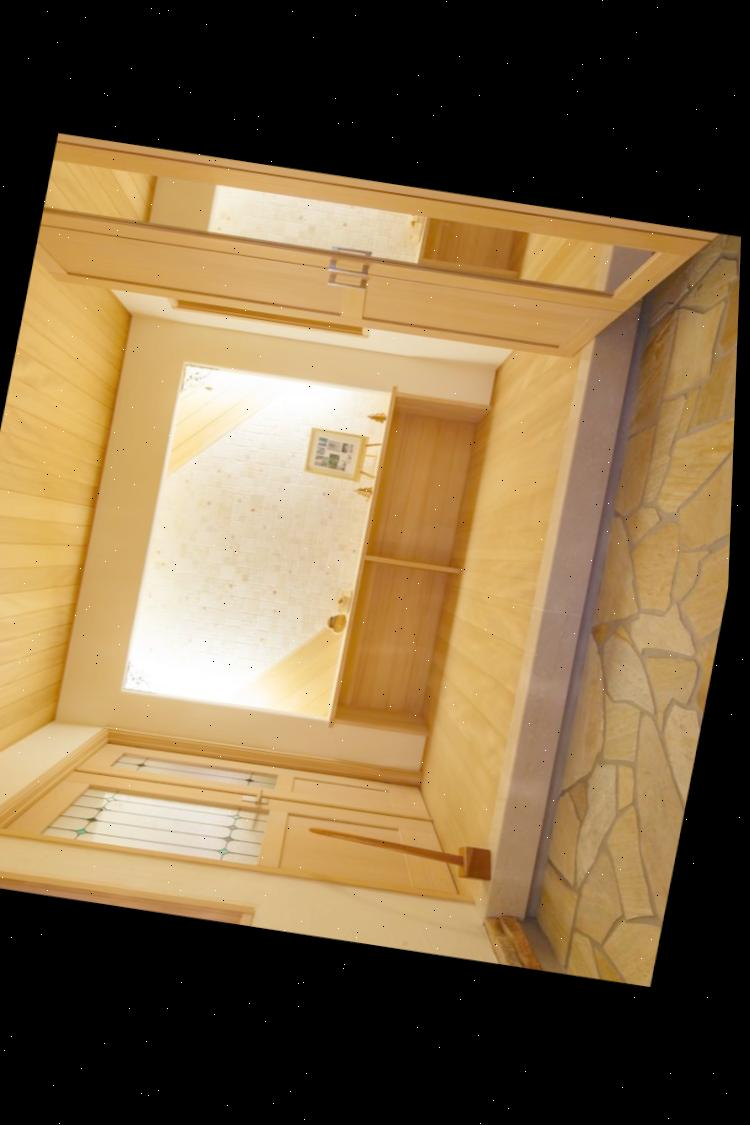floor: (534, 234, 741, 986)
safe: (419, 335, 594, 926)
